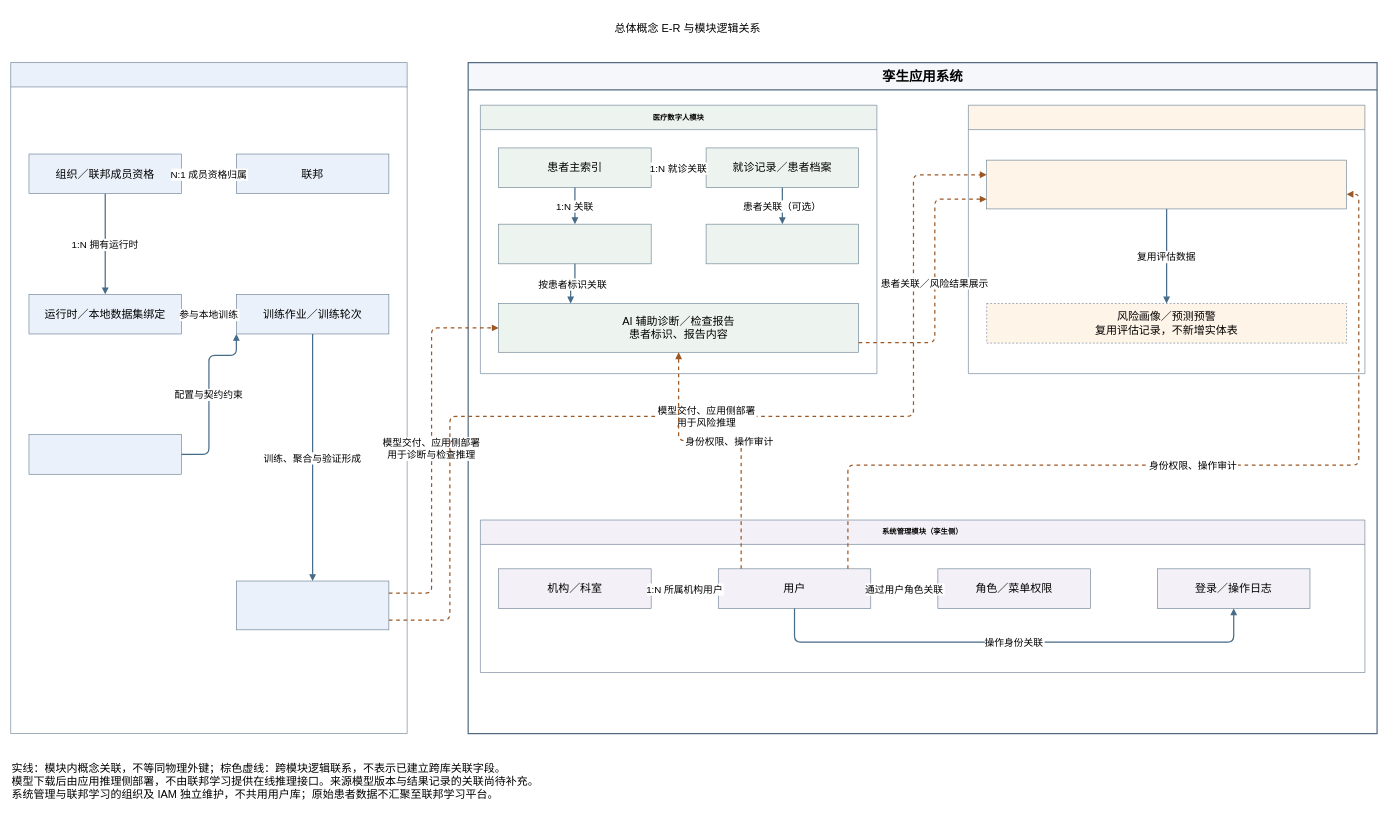
This 1388x838 diagram has some shape labels left out. Each missing label, with the box of its shape:
患者病灶／处置绑定: (498, 224, 651, 264)
模型工件 模型标识、版本、工件引用: (236, 580, 389, 630)
特征架构／训练运行配置: (28, 434, 181, 474)
疾病推演资源 视频引用、患者关联: (705, 224, 859, 264)
联邦学习模块: (10, 62, 407, 734)
风险动态评估与管理模块: (968, 105, 1365, 374)
风险评估记录 患者标识、风险评分、等级、时间: (986, 160, 1347, 209)
